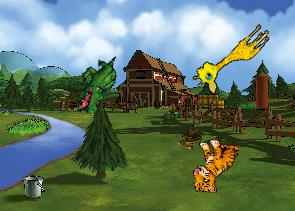crocodile: (76, 53, 118, 116)
giraffe: (188, 14, 274, 98)
tiger: (191, 137, 239, 194)
